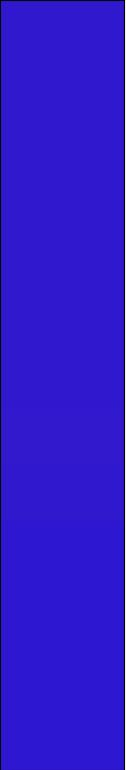safe: (8, 9, 116, 766)
